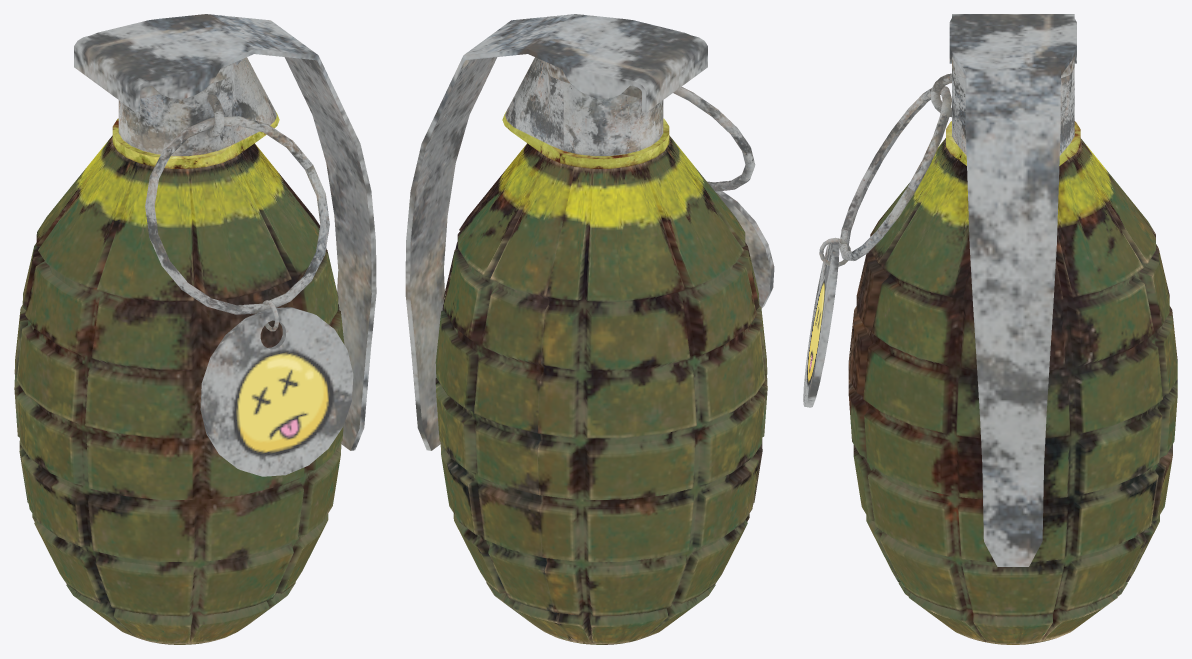
Rendered from Grenade.fbx.
3 renders of one model, left to right at view 1: azimuth 30°, elevation 25°; view 2: azimuth 150°, elevation 25°; view 3: azimuth 270°, elevation 25°, orthographic.
Visible parts, largest first — view 1: pasted__pasted__polySurface14; view 2: pasted__pasted__polySurface14; view 3: pasted__pasted__polySurface14.
Boxes of the visible parts, <box> form: pasted__pasted__polySurface14: <box>14,14,376,644</box>; pasted__pasted__polySurface14: <box>405,14,774,644</box>; pasted__pasted__polySurface14: <box>803,14,1177,644</box>.
Bounding box in the file's own units: 12.9 × 21.95 × 13.05.
